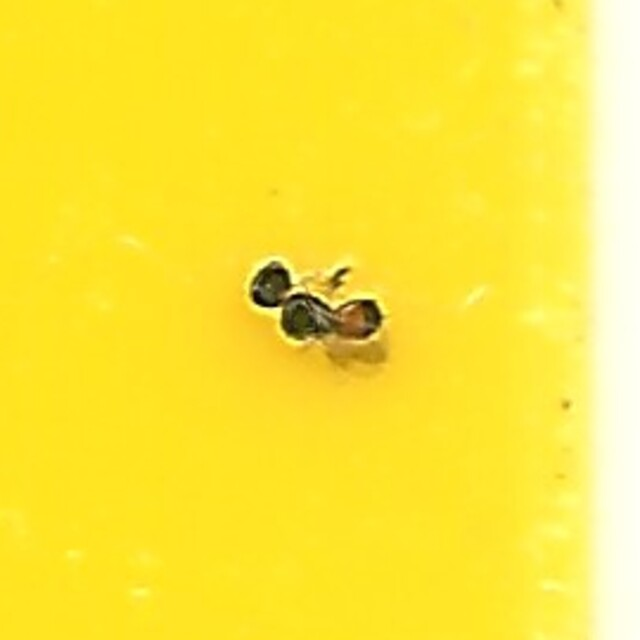Hymenoptera: (237, 256, 403, 384)
